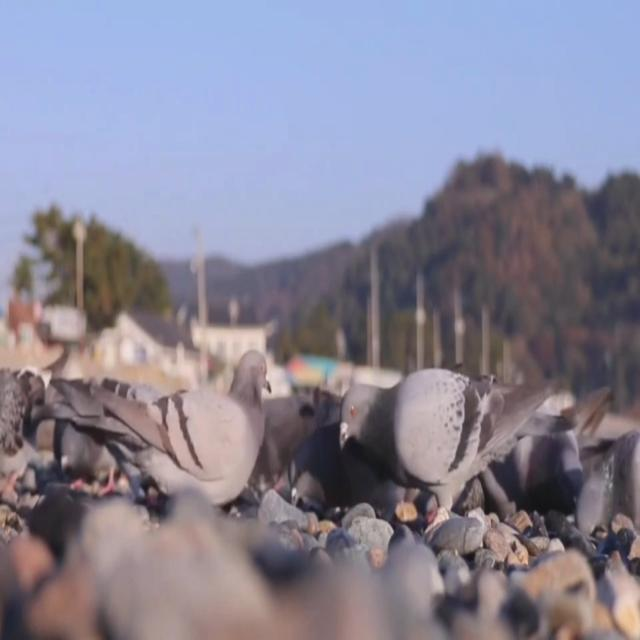bird: (104, 320, 280, 523), (335, 375, 560, 528), (32, 304, 192, 492), (282, 427, 446, 564), (266, 369, 368, 511), (514, 410, 582, 546), (49, 415, 129, 518), (572, 449, 640, 569), (0, 328, 43, 516), (469, 416, 519, 546), (564, 366, 613, 447)
